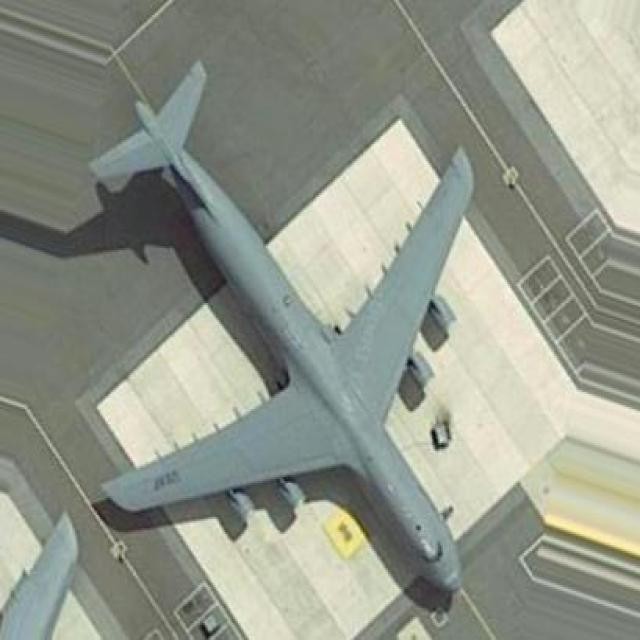C-5_TopDown: (68, 59, 482, 606)
